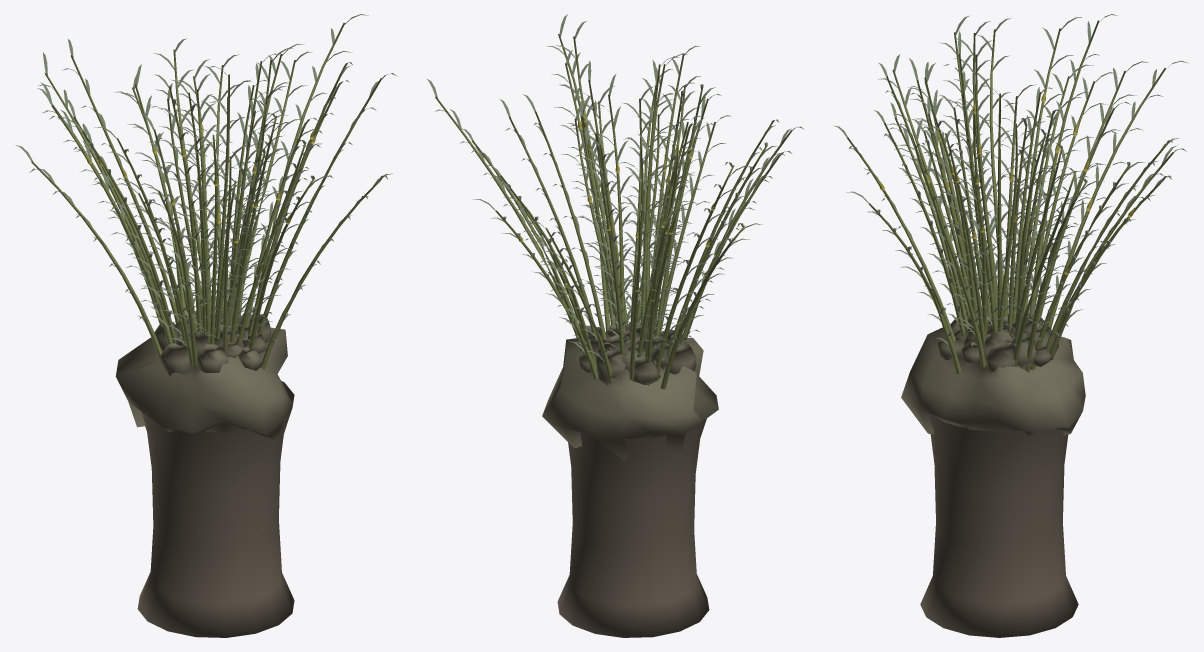
File: willow-v1.glb
3 views of the same model, side by side, from view 1: azimuth 30°, elevation 25°; view 2: azimuth 150°, elevation 25°; view 3: azimuth 270°, elevation 25° (orthographic). The views are drawn at different scales.
Parts seen in each view (by area): view 1: catkins; view 2: catkins; view 3: catkins.
Part boxes in pixels (<box>): catkins: <box>16,14,397,637</box>; catkins: <box>427,14,804,637</box>; catkins: <box>834,14,1188,637</box>.
Size of the model in its own units: 1.51 by 2.34 by 1.35.
Materials: 1 (1 with a texture image).
